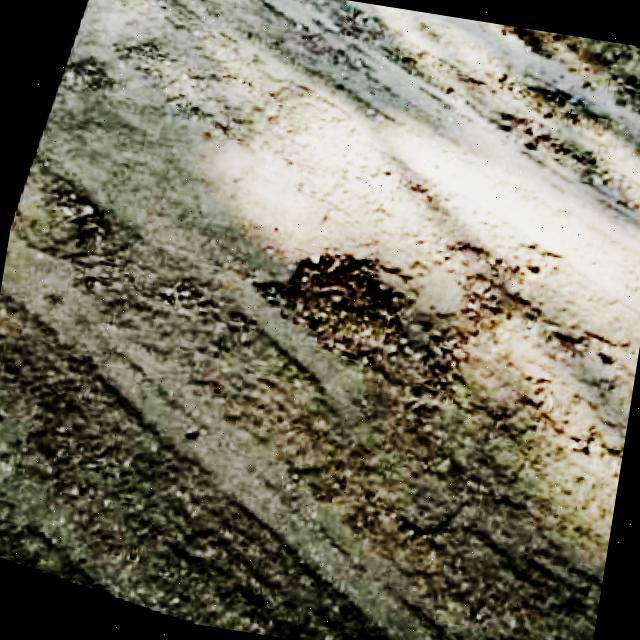pothole: (408, 12, 640, 145), (422, 217, 564, 362), (257, 242, 412, 372), (4, 148, 138, 286)
